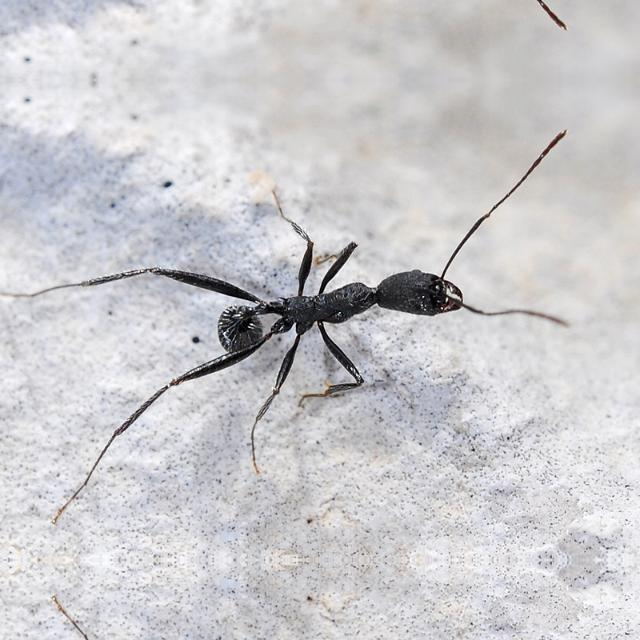Apheanogaster: (156, 225, 509, 393)
